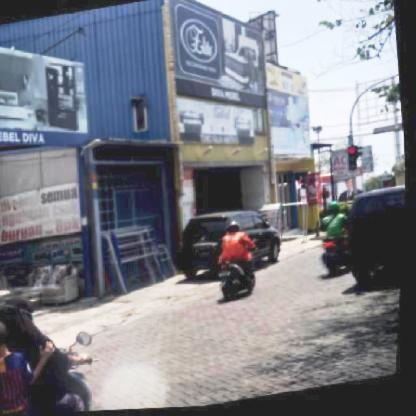Traffic Light -Red-: (347, 146, 361, 174)
